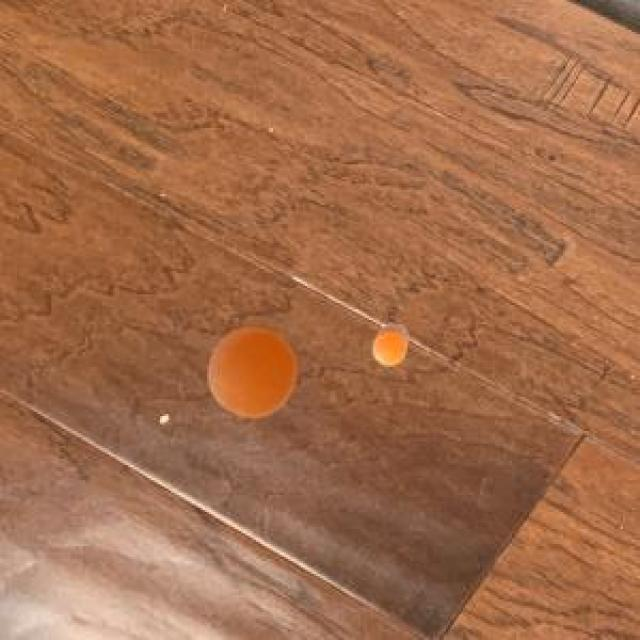Bactidol: (178, 307, 314, 432), (355, 315, 424, 378)
